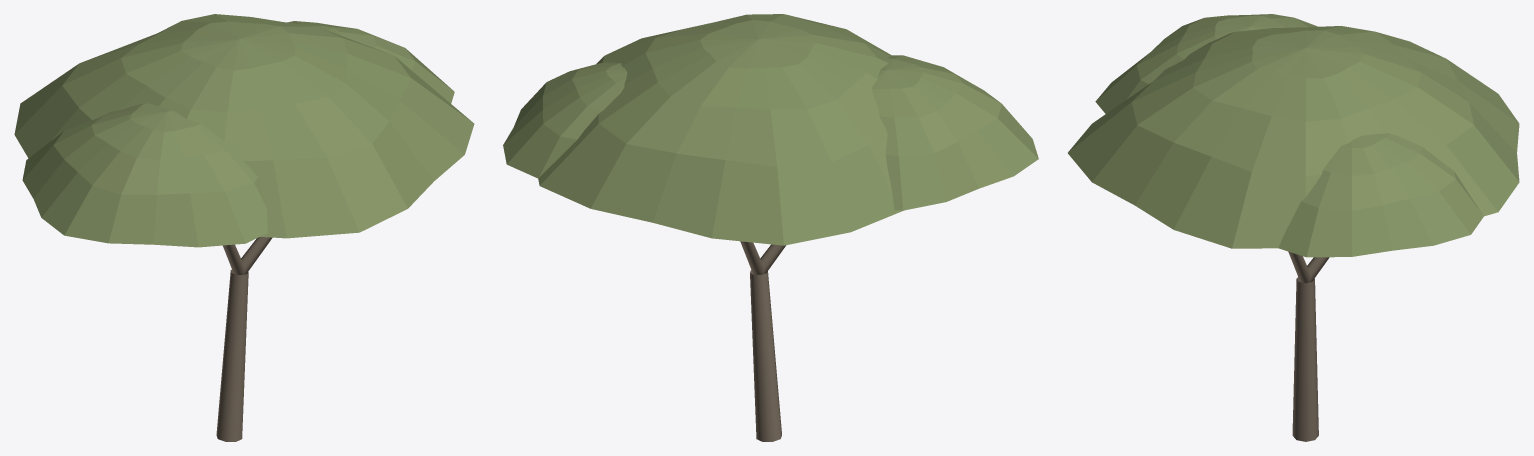
Rendered from acacia_small_LOD0.fbx.
The picture shows the model from 3 angles, left to right: view 1: azimuth 30°, elevation 25°; view 2: azimuth 150°, elevation 25°; view 3: azimuth 270°, elevation 25°; orthographic projection.
Visible parts, largest first — view 1: acacia_small_LOD0; view 2: acacia_small_LOD0; view 3: acacia_small_LOD0.
Boxes of the visible parts, x1,y1,x2,y2 form: acacia_small_LOD0: (14, 14, 474, 441); acacia_small_LOD0: (503, 14, 1038, 441); acacia_small_LOD0: (1068, 14, 1519, 441).
Size of the model in its own units: 7.68 by 6.56 by 6.84.
